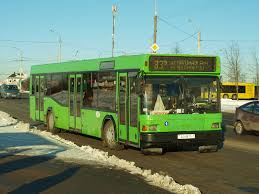bus: (29, 53, 225, 156)
